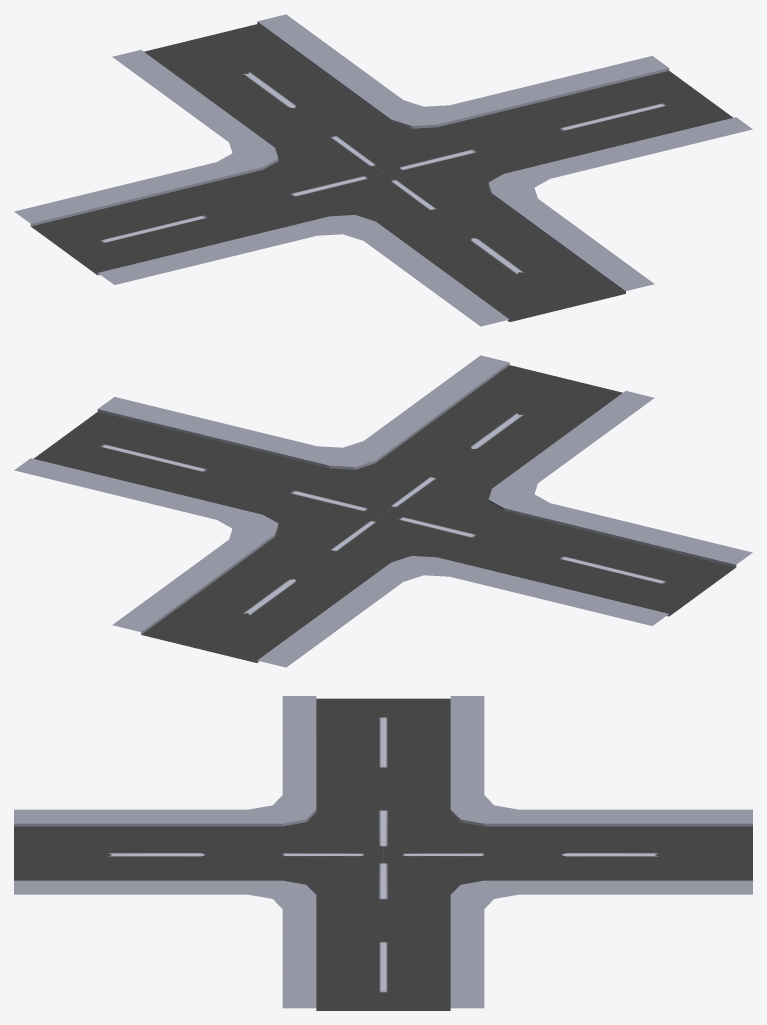
Rendered from 4 Way.fbx.
3 renders of one model, top to bottom at view 1: azimuth 30°, elevation 25°; view 2: azimuth 150°, elevation 25°; view 3: azimuth 270°, elevation 25°, orthographic.
Visible parts, largest first — view 1: 4 Way; view 2: 4 Way; view 3: 4 Way.
Boxes of the visible parts, x1,y1,x2,y2 form: 4 Way: [14, 14, 752, 326]; 4 Way: [14, 355, 752, 667]; 4 Way: [14, 696, 752, 1010].
Size of the model in its own units: 22 by 0.0877 by 22.
